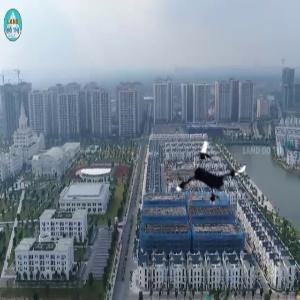drone: (173, 134, 250, 211)
